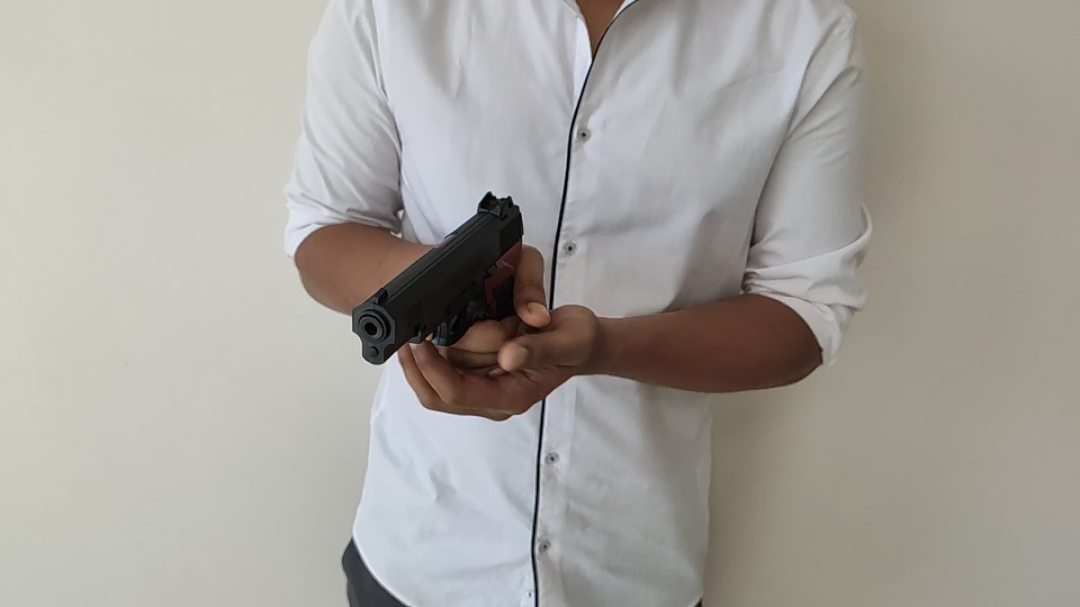gun: (411, 1, 658, 313)
